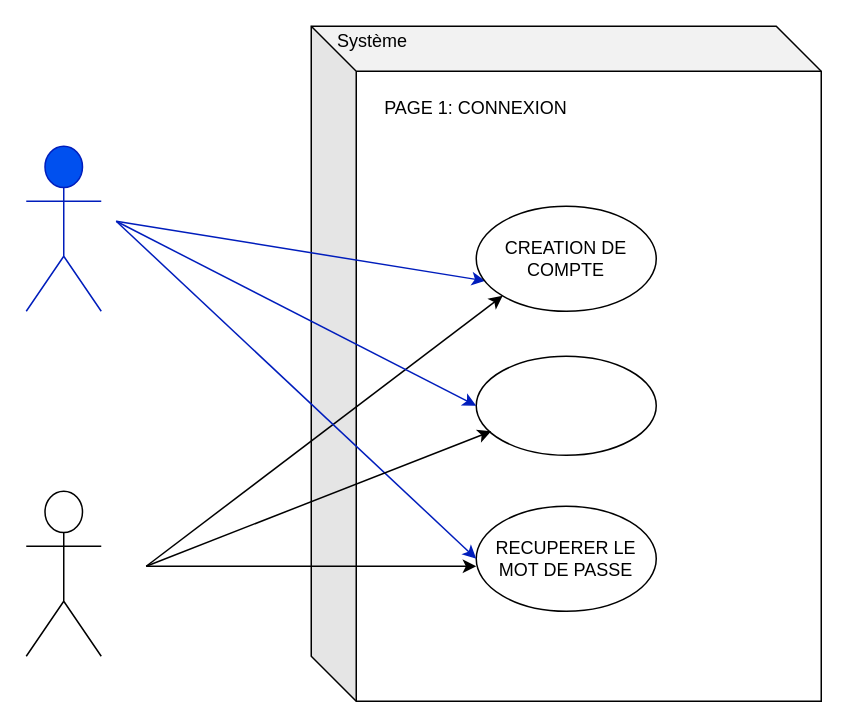
Some shapes in this 848 by 728 pixel diagram are drawn without their labels. Here are the shapes that lost their labels. From the top down, the centre of each, then its label:
At pixel 565 405: "SE CONNECTER".
At pixel 63 573: "Tuteur".
